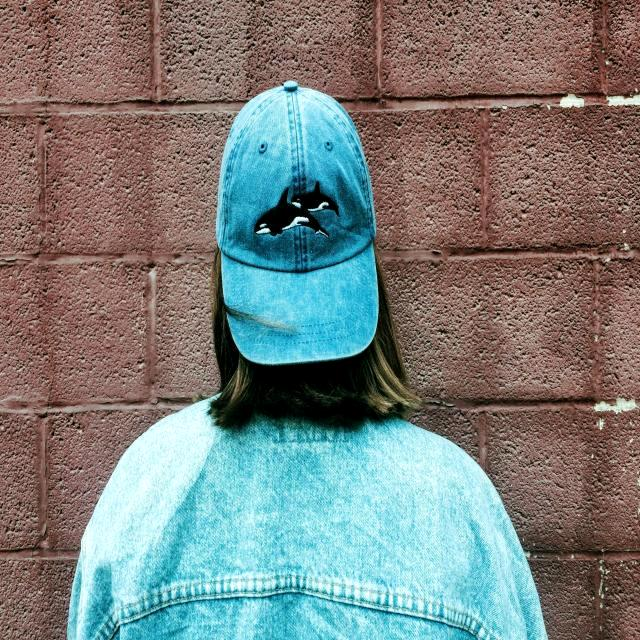no_hard_hat: (216, 81, 378, 365)
person: (68, 81, 547, 640)
